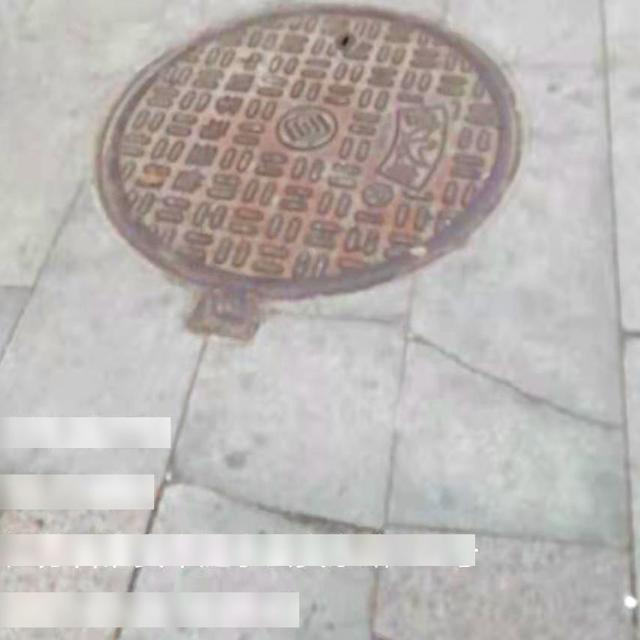good: (96, 0, 523, 345)
